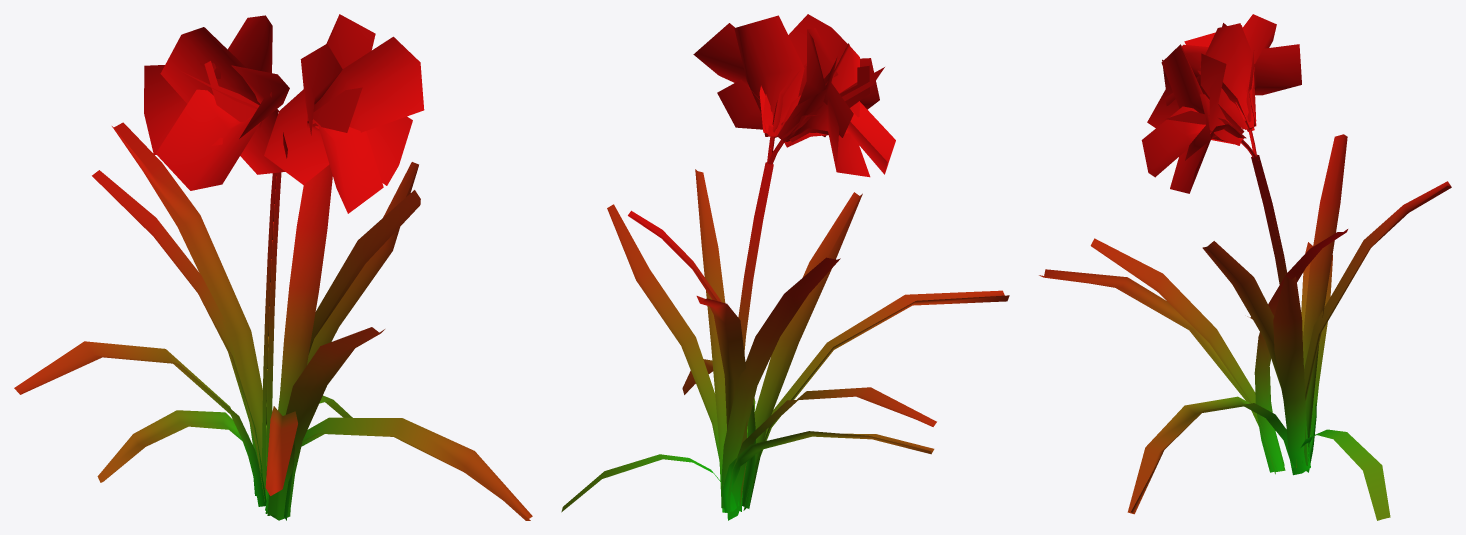
Rendered from Var3_LOD1.fbx.
3 views of the same model, side by side, from view 1: azimuth 30°, elevation 25°; view 2: azimuth 150°, elevation 25°; view 3: azimuth 270°, elevation 25° (orthographic). The views are drawn at different scales.
Visible parts, largest first — view 1: _ee91_Var3_LOD1; view 2: _ee91_Var3_LOD1; view 3: _ee91_Var3_LOD1.
Part boxes in pixels (x1,y1,x2,y2): _ee91_Var3_LOD1: [14, 14, 532, 520]; _ee91_Var3_LOD1: [561, 14, 1009, 520]; _ee91_Var3_LOD1: [1039, 14, 1451, 520].
Size of the model in its own units: 67.27 by 85.68 by 74.56.
